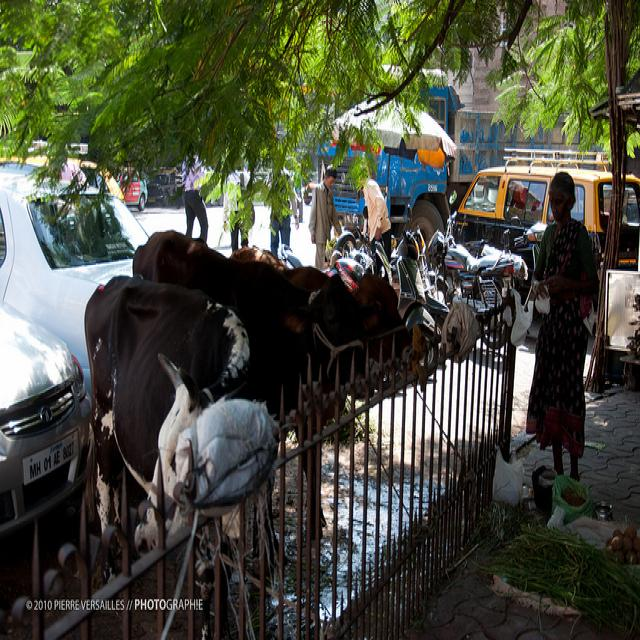motor: (334, 230, 443, 373), (428, 190, 514, 347), (478, 217, 548, 306), (326, 247, 402, 320), (413, 228, 450, 325)
